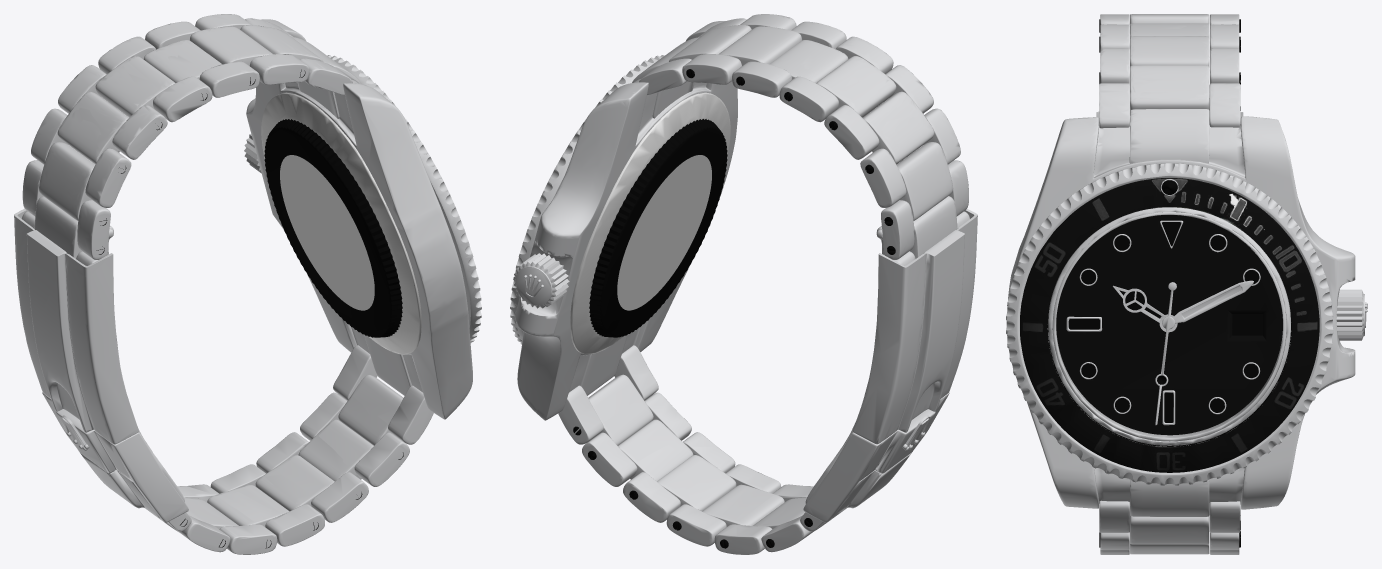
Rendered from backed_roll.glb.
3 views of the same model, side by side, from view 1: azimuth 30°, elevation 25°; view 2: azimuth 150°, elevation 25°; view 3: azimuth 270°, elevation 25° (orthographic).
Parts seen in each view (by area): view 1: Circle.009; view 2: Circle.009; view 3: Circle.009.
Part boxes in pixels (x1,y1,x2,y2): Circle.009: (14,14,481,554); Circle.009: (510,14,977,554); Circle.009: (1006,14,1367,554).
Size of the model in its own units: 3.96 by 4.73 by 3.17.
9 materials, 6 textured.
